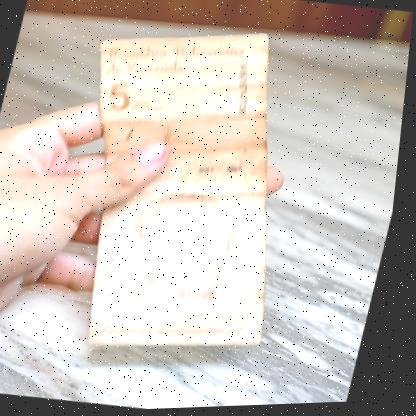vef_front: (32, 10, 337, 370)
